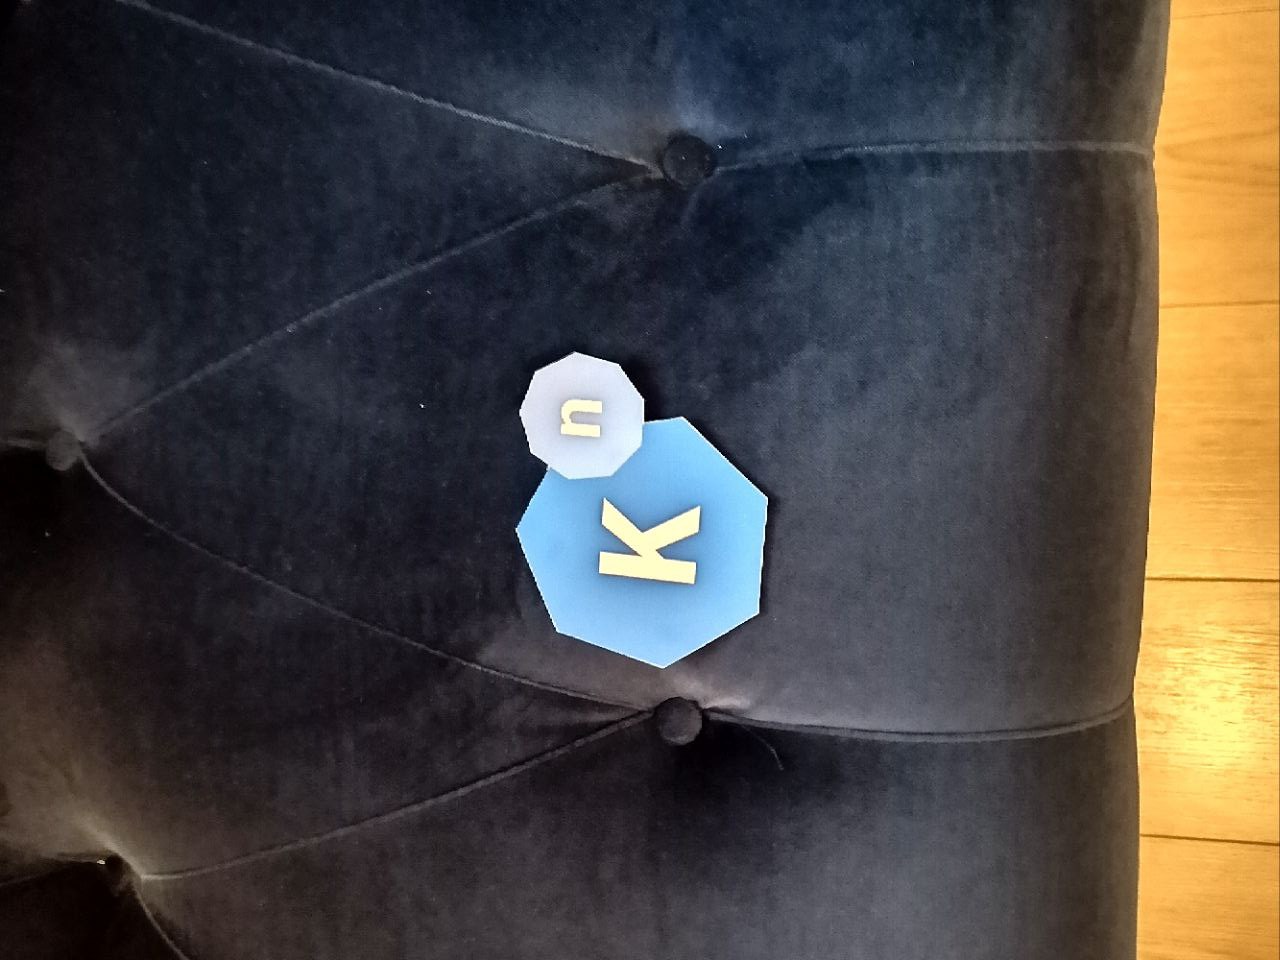knative: (510, 347, 774, 666)
